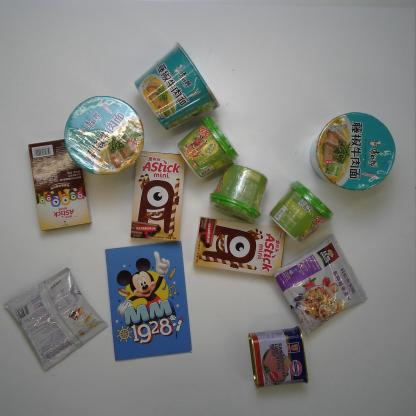Canned Food: (248, 326, 309, 387)
Dessert: (27, 138, 92, 232), (193, 216, 285, 277), (130, 151, 186, 241)
Instant Drink: (3, 266, 108, 372), (272, 233, 368, 338), (176, 115, 240, 181), (268, 180, 334, 244), (209, 162, 268, 222)
Instant Noodles: (133, 42, 220, 131), (309, 111, 396, 191), (63, 96, 145, 176)
Stationery: (104, 241, 192, 361)
